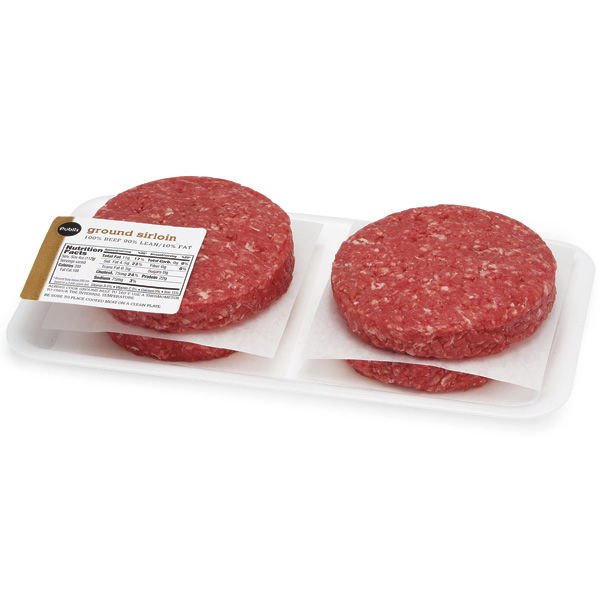ground_beef: (326, 192, 555, 432), (76, 156, 301, 393)
